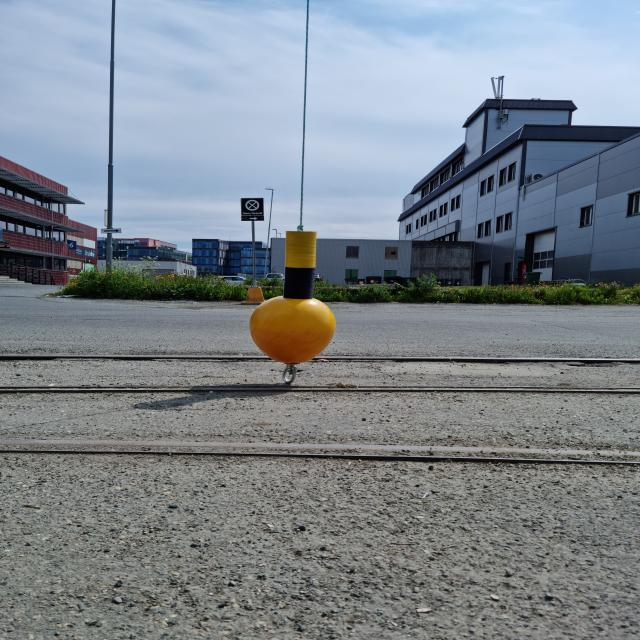west: (252, 230, 337, 363)
